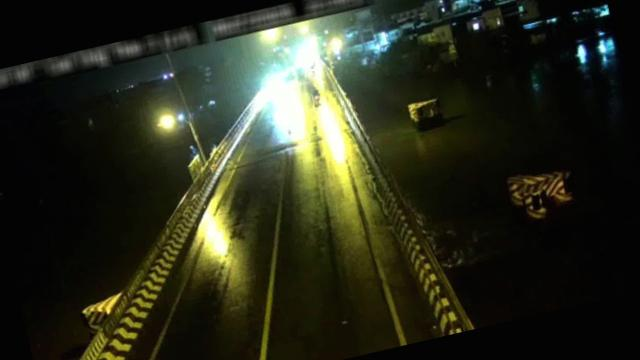Bike: (311, 88, 324, 107)
